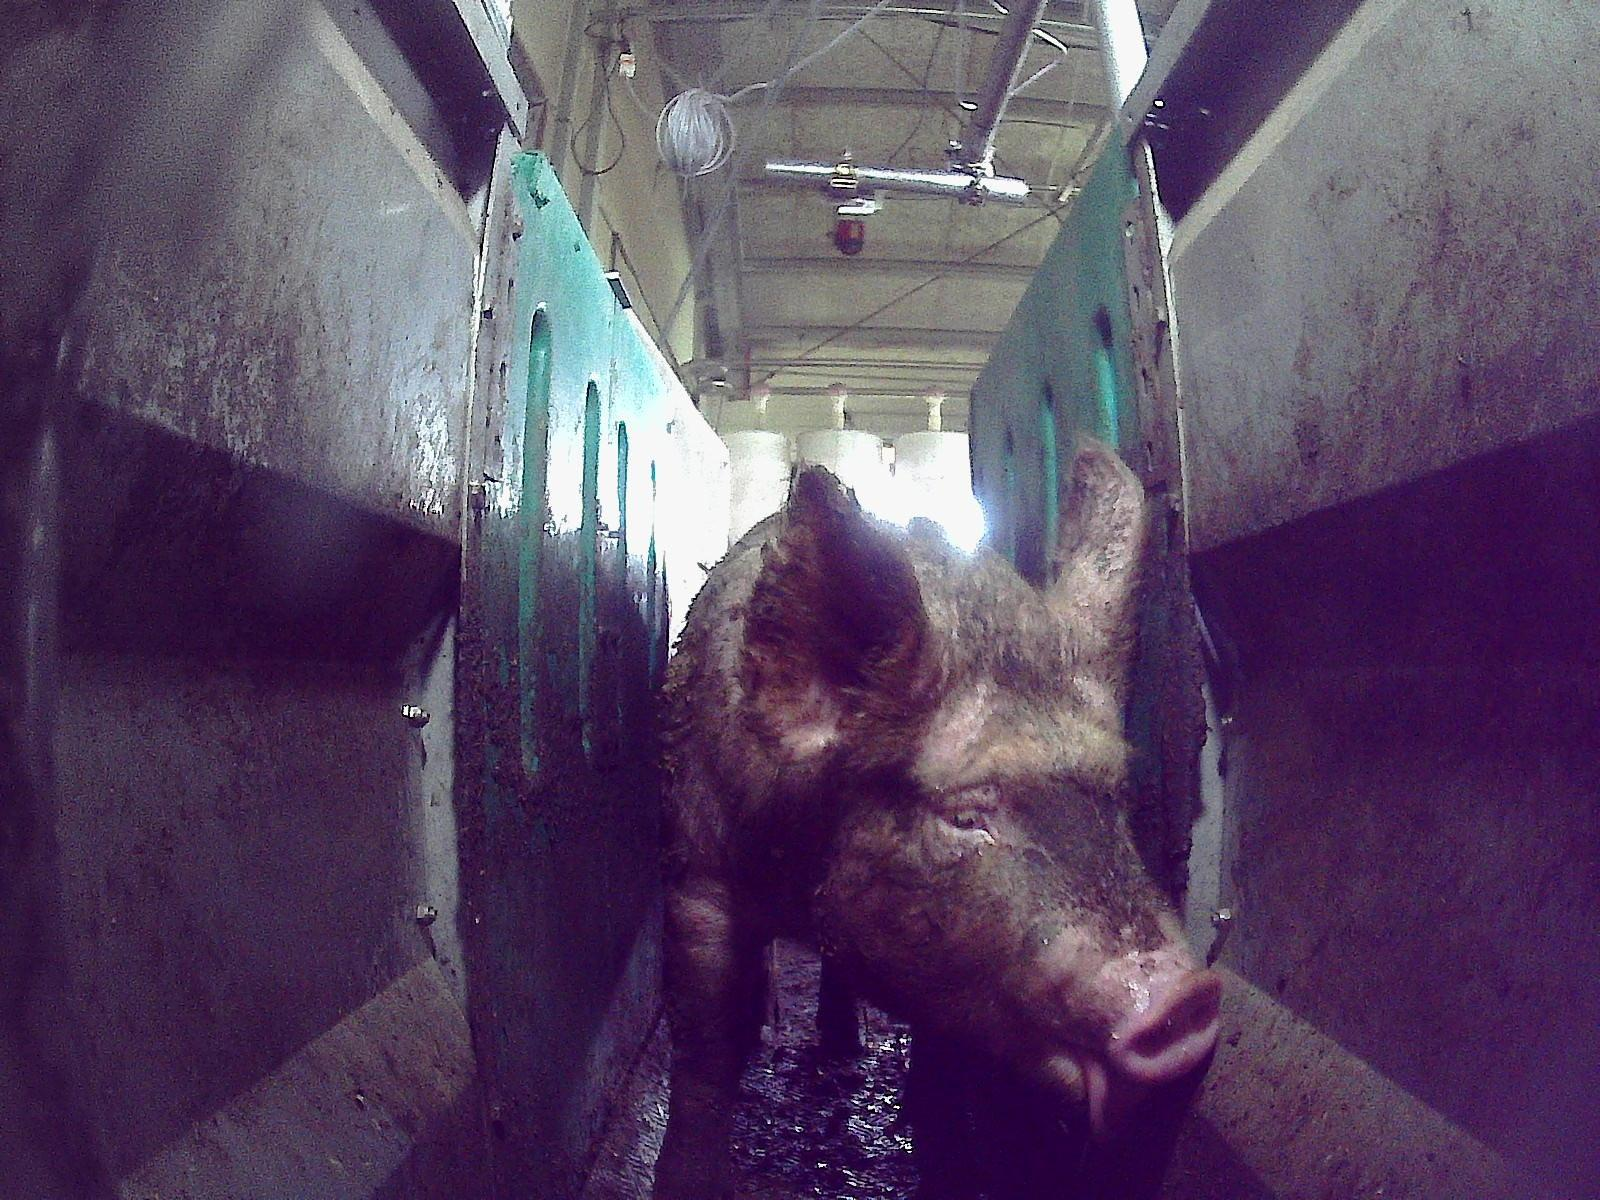Face: (789, 562, 1220, 1134)
